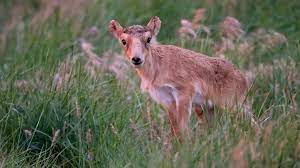saiga: (108, 15, 260, 155)
